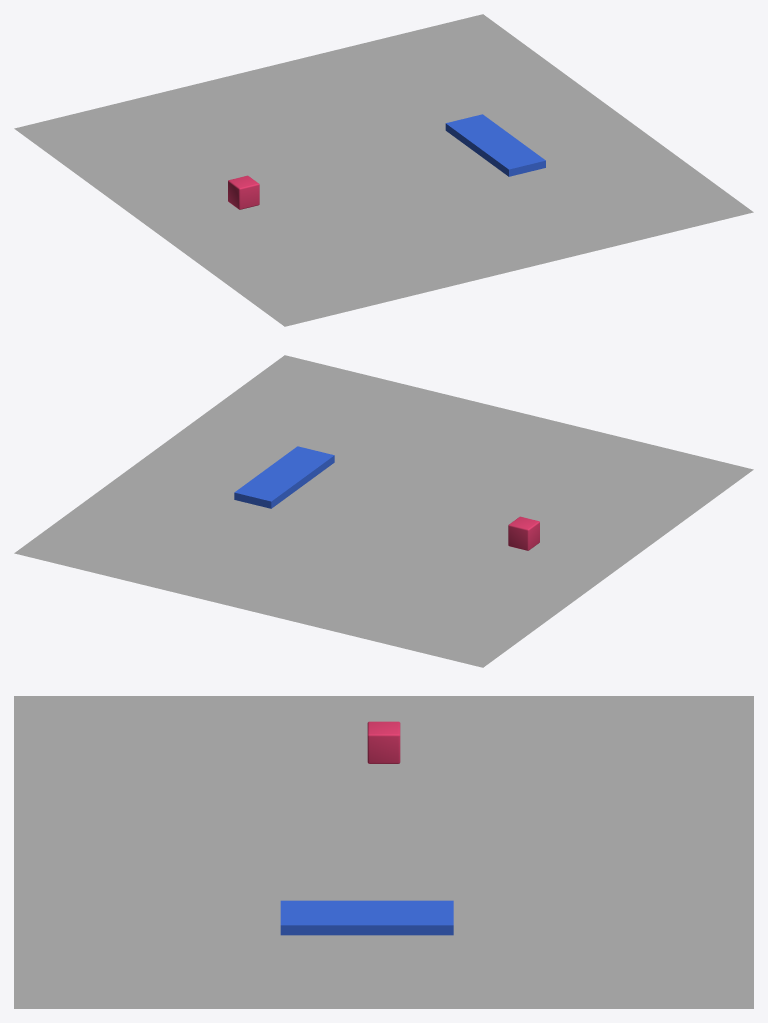
The model's file is cube-animation.glb.
3 renders of one model, top to bottom at view 1: azimuth 30°, elevation 25°; view 2: azimuth 150°, elevation 25°; view 3: azimuth 270°, elevation 25°, orthographic. The views are drawn at different scales.
Parts seen in each view (by area): view 1: Plane, Cube.001, Cube; view 2: Plane, Cube.001, Cube; view 3: Plane, Cube.001, Cube.
Part boxes in pixels (bbox=[...]): Plane: bbox=[14, 14, 753, 326]; Cube.001: bbox=[445, 114, 545, 176]; Cube: bbox=[228, 175, 259, 209]; Plane: bbox=[14, 355, 753, 667]; Cube.001: bbox=[234, 446, 334, 508]; Cube: bbox=[508, 516, 539, 550]; Plane: bbox=[14, 696, 753, 1008]; Cube.001: bbox=[280, 900, 453, 935]; Cube: bbox=[367, 721, 400, 763].
Bounding box in the file's own units: 45.08 × 4.99 × 45.08.
